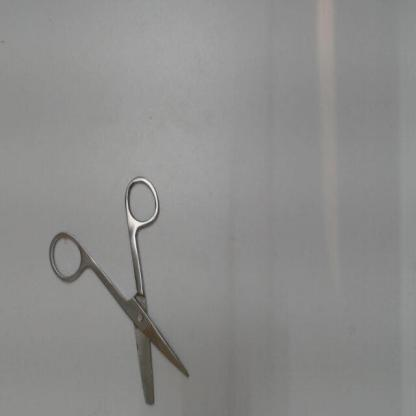Dressing Scissors: (41, 169, 194, 411)
